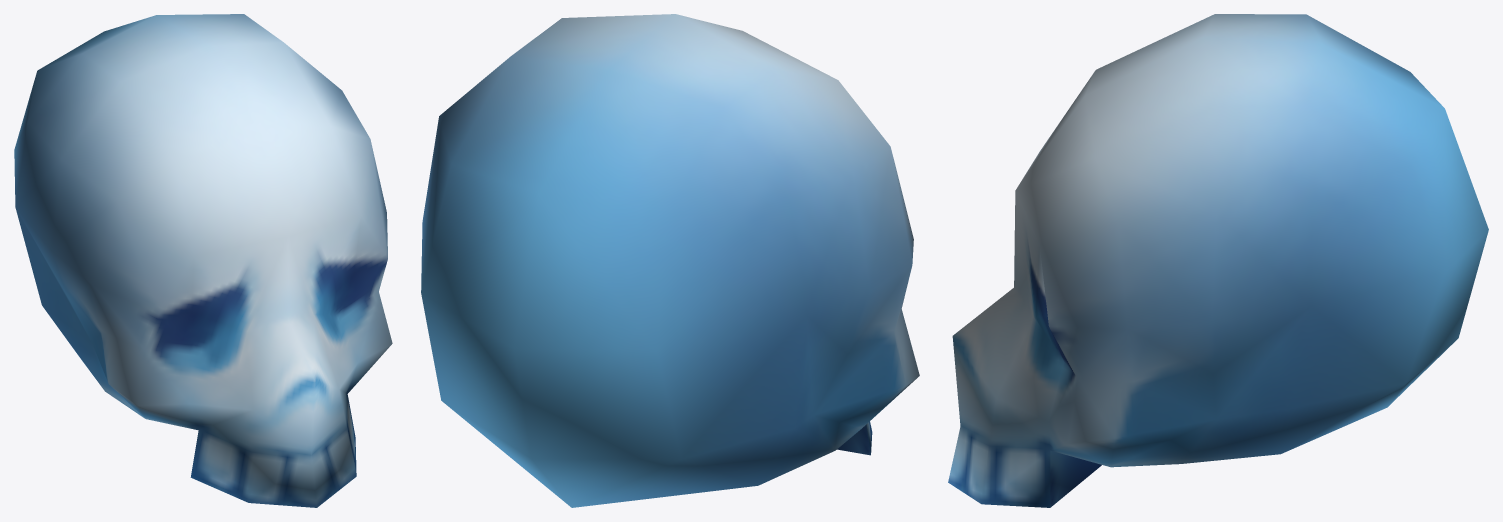
File: LinSe.FBX
The picture shows the model from 3 angles, left to right: view 1: azimuth 30°, elevation 25°; view 2: azimuth 150°, elevation 25°; view 3: azimuth 270°, elevation 25°; orthographic projection. The views are drawn at different scales.
Visible parts, largest first — view 1: linse; view 2: linse; view 3: linse.
Part boxes in pixels (left/top/right/bottom): linse: left=14, top=14, right=392, bottom=507; linse: left=421, top=14, right=919, bottom=507; linse: left=948, top=14, right=1488, bottom=507.
Size of the model in its own units: 36.3 by 43.74 by 48.18.
